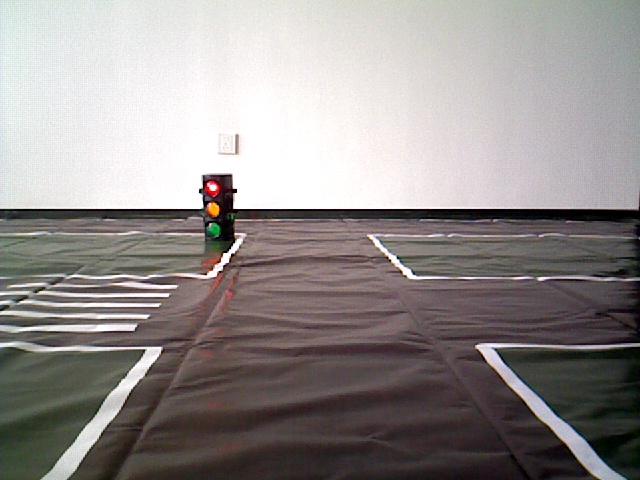red: (204, 176, 230, 246)
